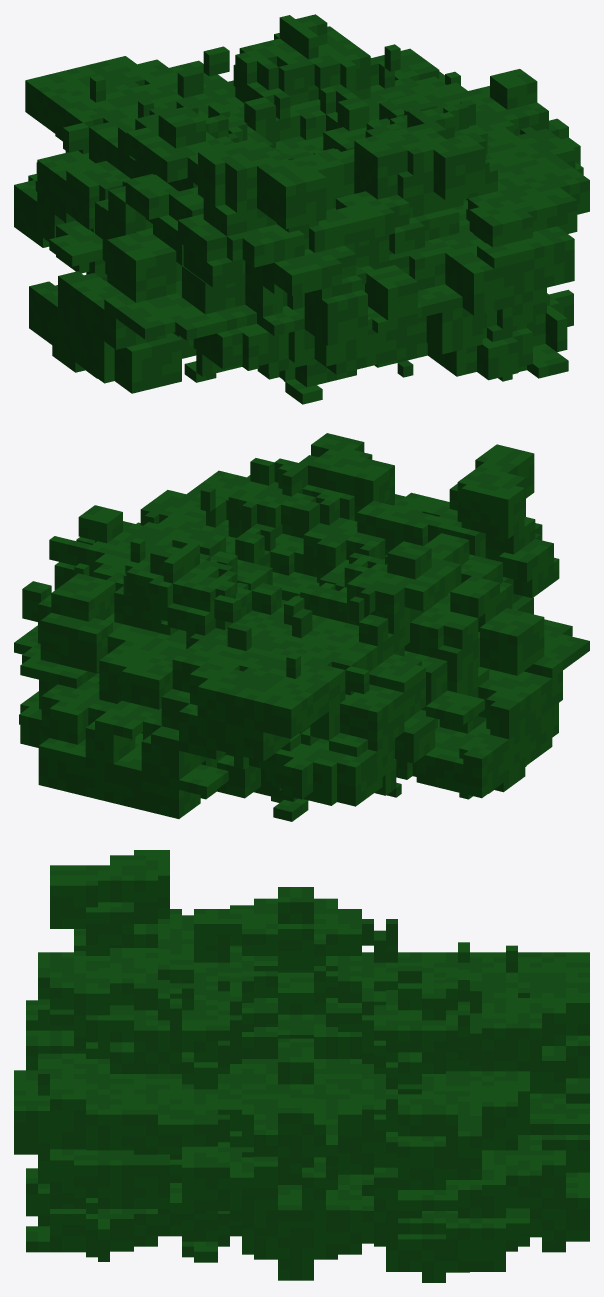
Rendered from start_end-42.obj.
3 renders of one model, top to bottom at view 1: azimuth 30°, elevation 25°; view 2: azimuth 150°, elevation 25°; view 3: azimuth 270°, elevation 25°, orthographic. The views are drawn at different scales.
Size of the model in its own units: 4.8 by 2.7 by 4.8.
Materials: 1 (1 with a texture image).
